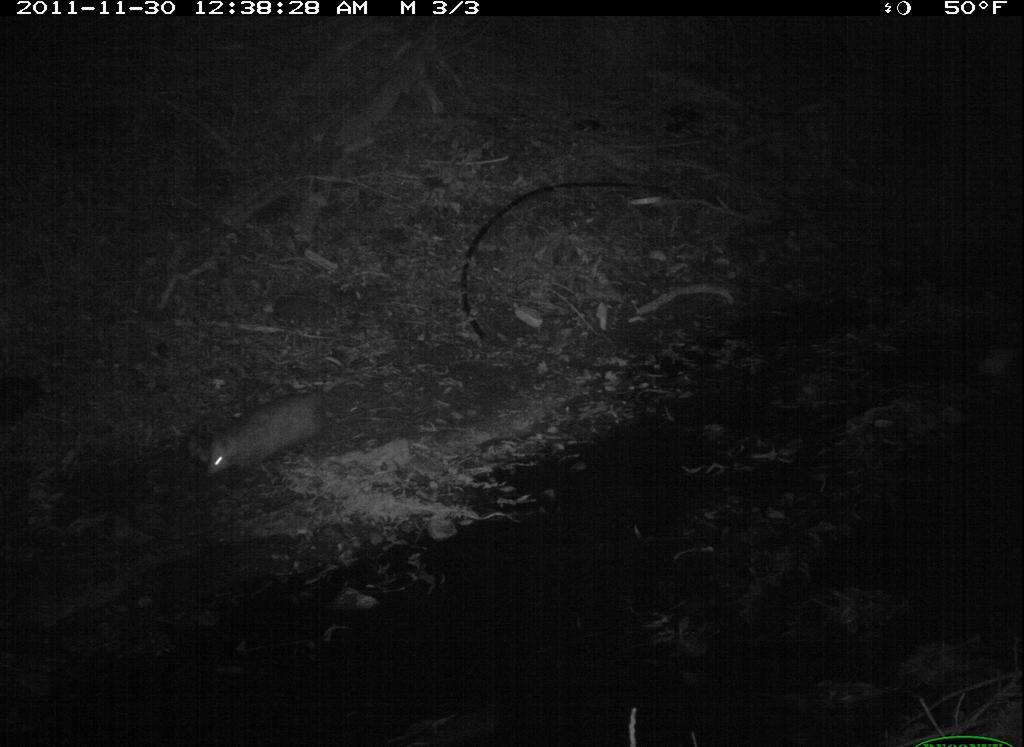opossum: (201, 372, 355, 484)
